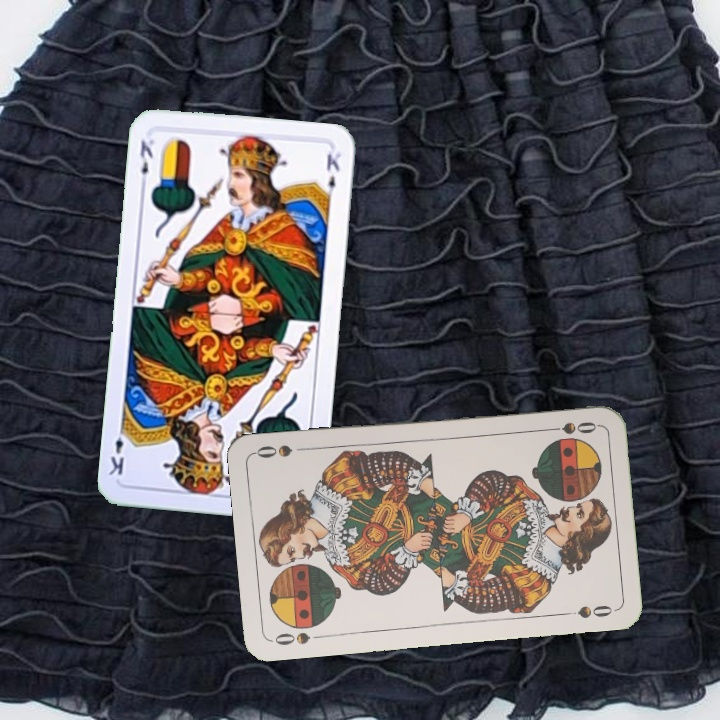EK: (136, 135, 157, 191)
SO: (268, 628, 328, 648), (541, 417, 600, 437)
